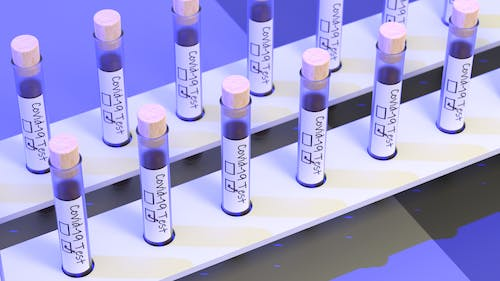blood: (53, 179, 94, 277), (138, 148, 174, 247), (366, 65, 403, 159), (17, 77, 51, 174), (438, 38, 472, 134), (98, 51, 131, 147), (221, 119, 251, 216), (299, 93, 327, 187), (175, 26, 203, 120), (248, 3, 274, 96)
